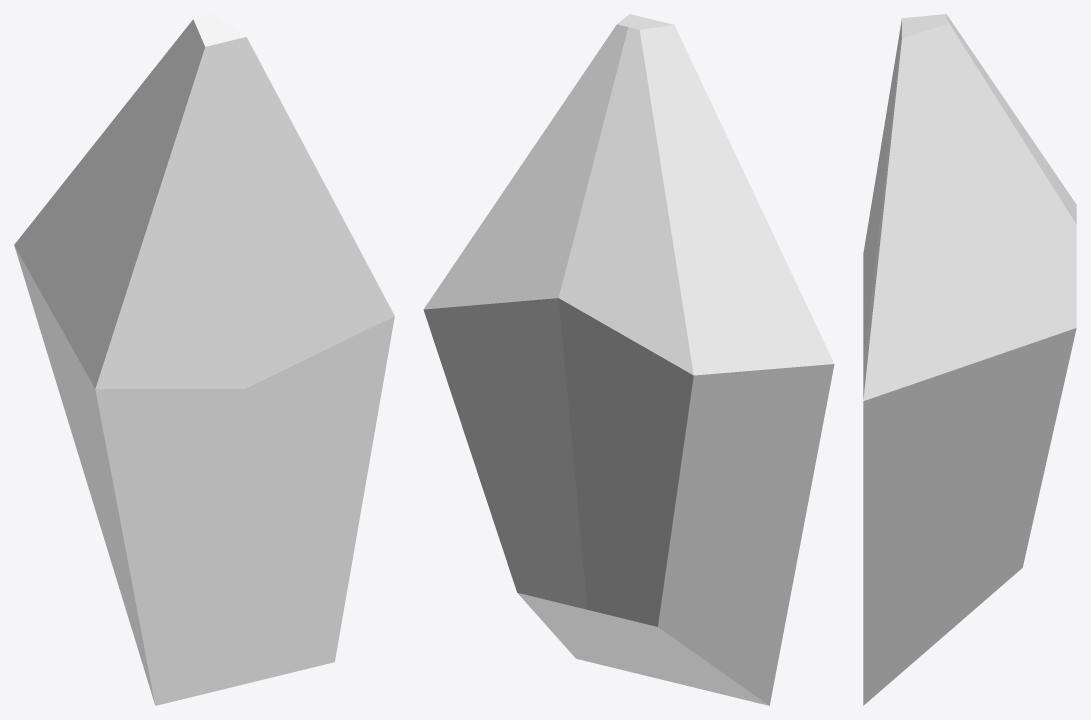
File: head_3.fbx
3 renders of one model, left to right at view 1: azimuth 30°, elevation 25°; view 2: azimuth 150°, elevation 25°; view 3: azimuth 270°, elevation 25°, orthographic. The views are drawn at different scales.
Parts seen in each view (by area): view 1: Cube.121; view 2: Cube.121; view 3: Cube.121.
Boxes of the visible parts, left/top/right/bottom form: Cube.121: left=14, top=14, right=394, bottom=705; Cube.121: left=423, top=14, right=834, bottom=705; Cube.121: left=863, top=14, right=1076, bottom=705.
Size of the model in its own units: 12.39 by 25.18 by 7.58.
